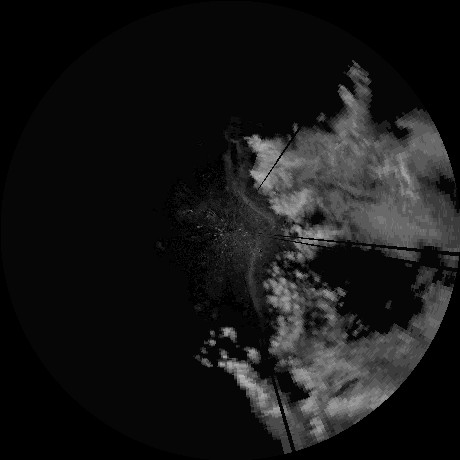frontgust: (225, 152, 277, 223), (247, 241, 263, 323)
